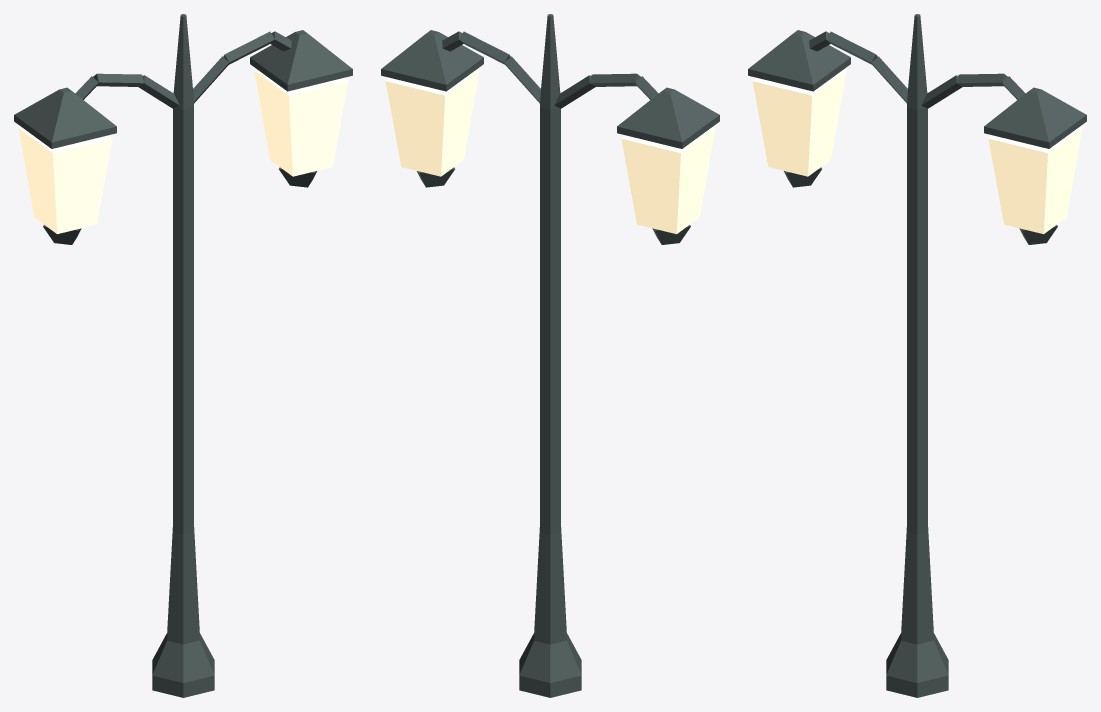
Rendered from heritage-lamp.lod1.glb.
The picture shows the model from 3 angles, left to right: view 1: azimuth 30°, elevation 25°; view 2: azimuth 150°, elevation 25°; view 3: azimuth 330°, elevation 25°; orthographic projection.
Visible parts, largest first — view 1: metal, diffuser; view 2: metal, diffuser; view 3: metal, diffuser.
Part boxes in pixels (x1,y1,x2,y2): metal: (14, 14, 352, 697); diffuser: (18, 69, 348, 234); metal: (381, 14, 719, 697); diffuser: (385, 69, 715, 234); metal: (748, 14, 1086, 697); diffuser: (752, 69, 1082, 234).
Size of the model in its own units: 2.12 by 4.49 by 0.4596.
